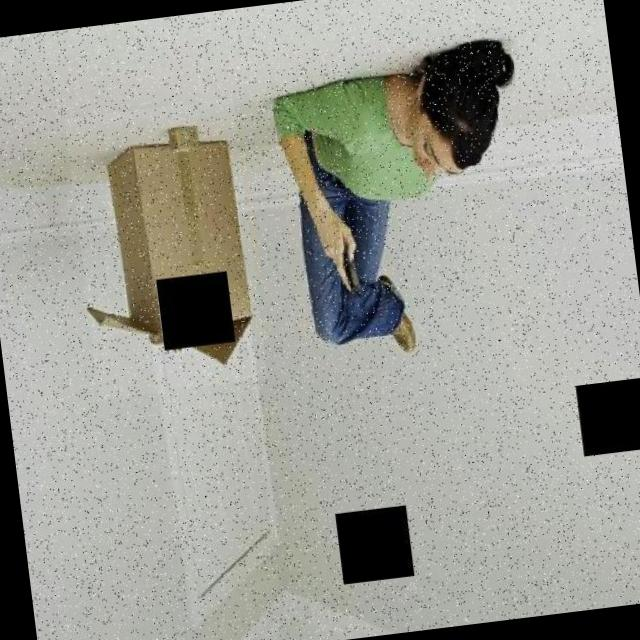box: (64, 98, 267, 400)
